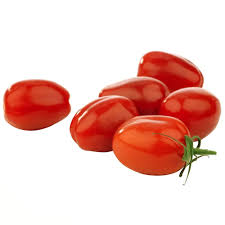tomate: (79, 45, 217, 173)
